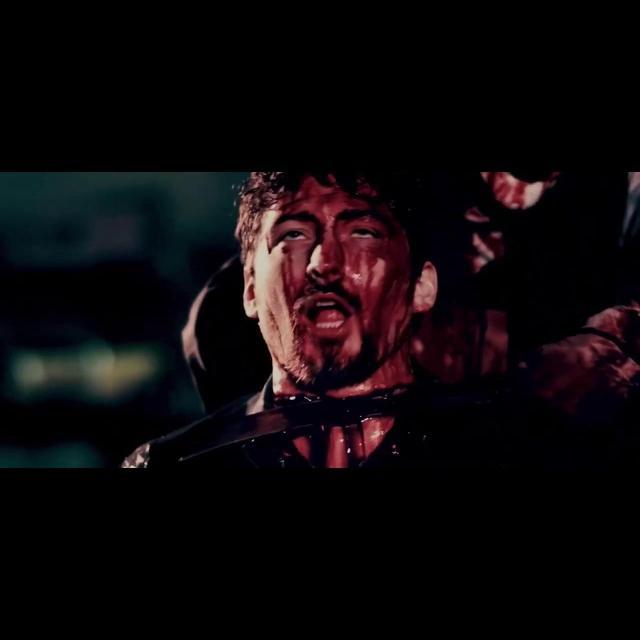blood: (260, 172, 640, 472), (464, 172, 560, 259), (474, 248, 490, 272)
